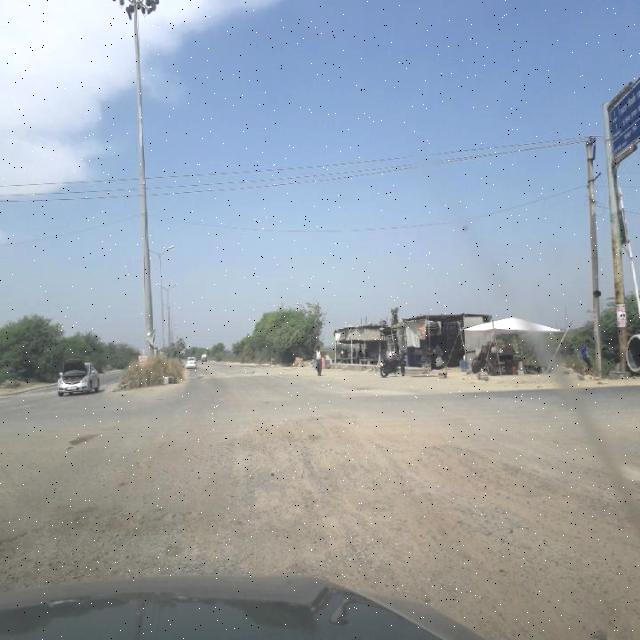D40: (308, 420, 550, 561), (1, 479, 246, 574)
